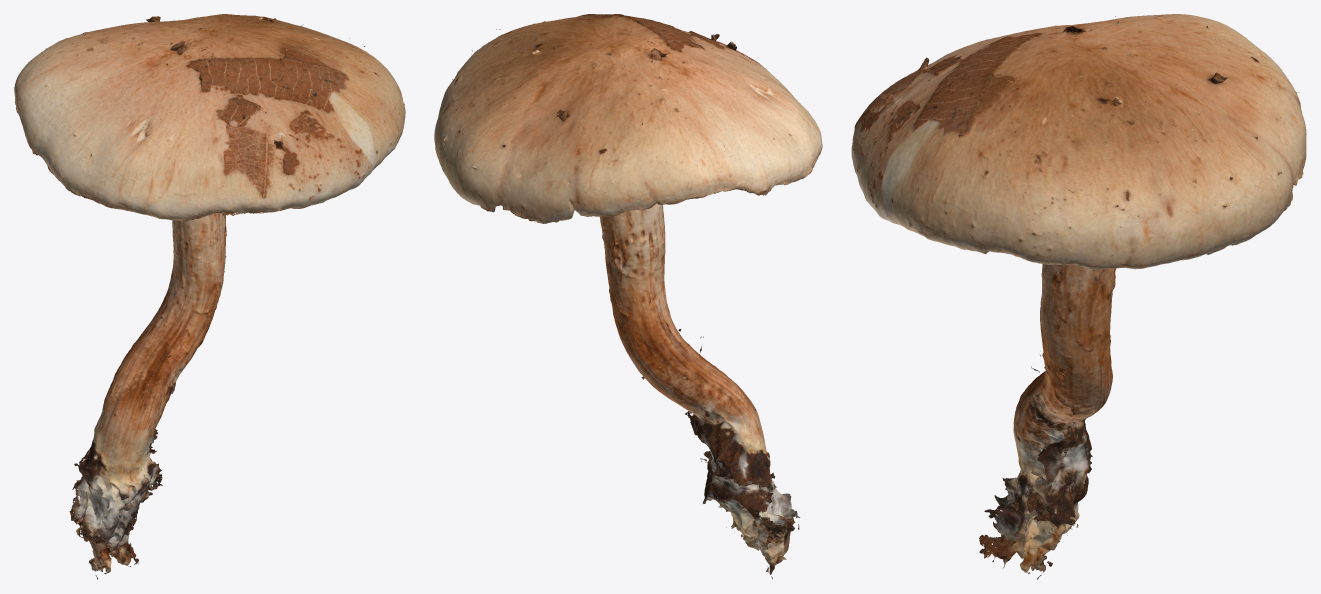
Rendered from mushroom.glb.
3 views of the same model, side by side, from view 1: azimuth 30°, elevation 25°; view 2: azimuth 150°, elevation 25°; view 3: azimuth 270°, elevation 25° (orthographic). The views are drawn at different scales.
Visible parts, largest first — view 1: Object_6, Object_13; view 2: Object_6, Object_13; view 3: Object_6, Object_13.
Part boxes in pixels (x1,y1,x2,y2): Object_6: [14, 14, 405, 579]; Object_13: [14, 14, 405, 578]; Object_6: [434, 14, 822, 579]; Object_13: [436, 14, 822, 578]; Object_6: [851, 14, 1306, 579]; Object_13: [851, 14, 1306, 578].
Bounding box in the file's own units: 0.6887 × 1 × 0.6712.
2 materials, 2 textured.
